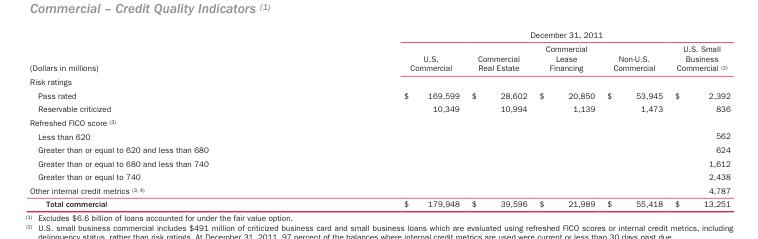table: (29, 29, 729, 208)
table column: (29, 29, 305, 208), (305, 29, 464, 208), (464, 29, 532, 208), (532, 29, 600, 208), (600, 29, 668, 208), (668, 29, 729, 208)
table column header: (29, 29, 729, 74)
table projected row header: (29, 74, 729, 88), (29, 115, 729, 128)
table row: (29, 41, 729, 74), (29, 74, 729, 88), (29, 101, 729, 115), (29, 128, 729, 142), (29, 142, 729, 156), (29, 169, 729, 183), (29, 88, 729, 101), (29, 115, 729, 128), (29, 156, 729, 169), (29, 183, 729, 196), (29, 29, 729, 41), (29, 196, 729, 208)
table spanning cell: (29, 29, 305, 74), (305, 29, 729, 41)
